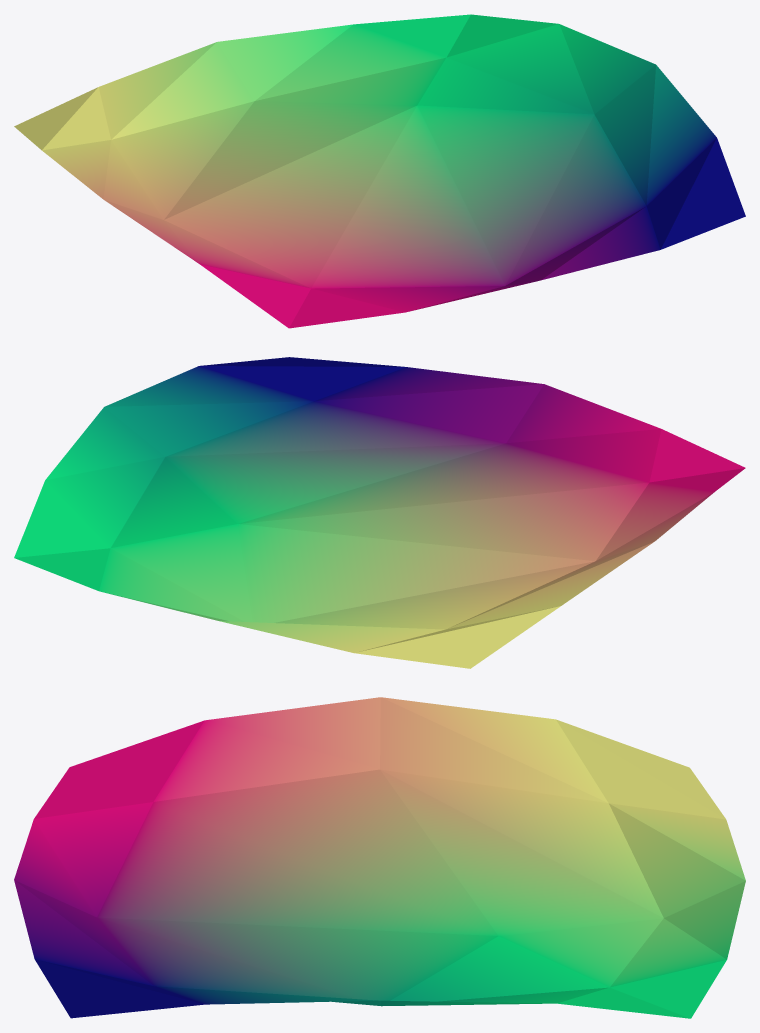
The model's file is snowplane.FBX.
3 renders of one model, top to bottom at view 1: azimuth 30°, elevation 25°; view 2: azimuth 150°, elevation 25°; view 3: azimuth 270°, elevation 25°, orthographic. The views are drawn at different scales.
Visible parts, largest first — view 1: Plane001; view 2: Plane001; view 3: Plane001.
Part boxes in pixels (x1,y1,x2,y2): Plane001: (14,14,745,328); Plane001: (14,357,745,668); Plane001: (14,697,745,1018).
Bounding box in the file's own units: 317 × 33.62 × 323.
